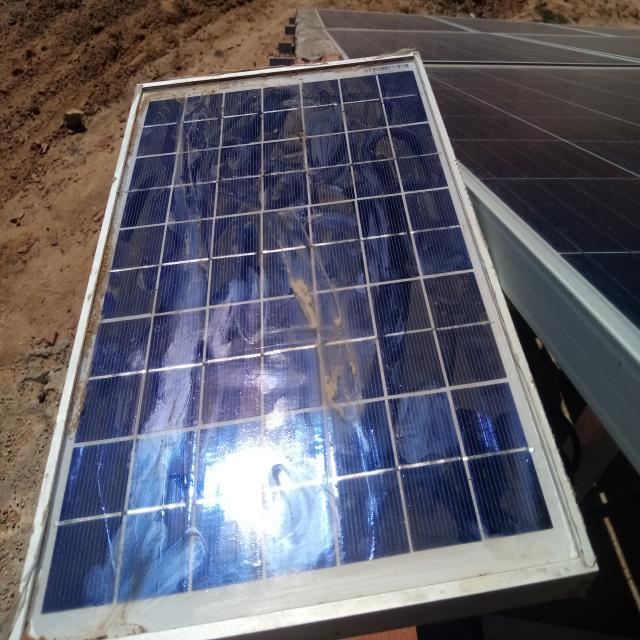faulty: (16, 51, 592, 640)
